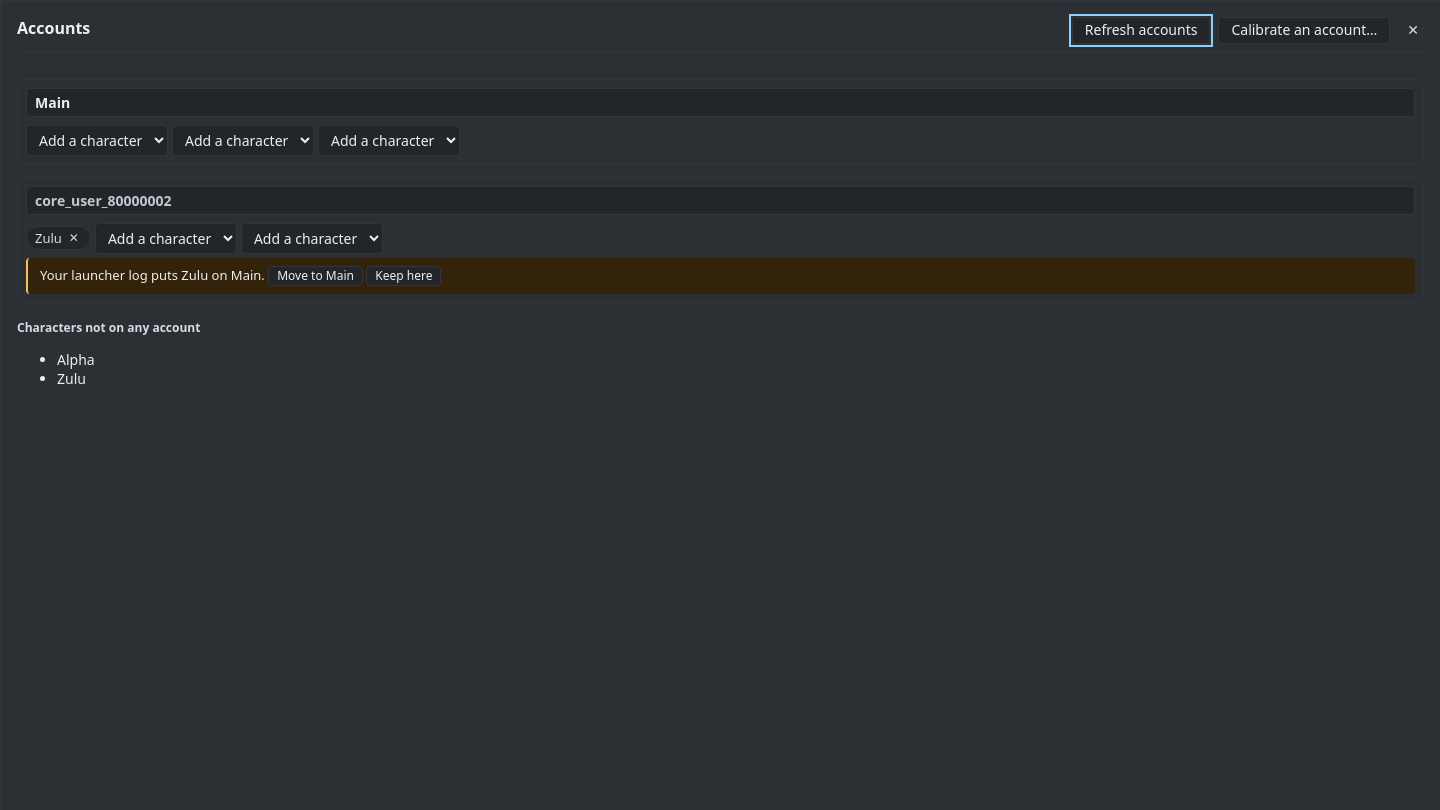
Test: launcher proposals › Keep here drops the warning and writes nothing
Click the button "Keep here" at (404, 276), box [366, 266, 441, 286]
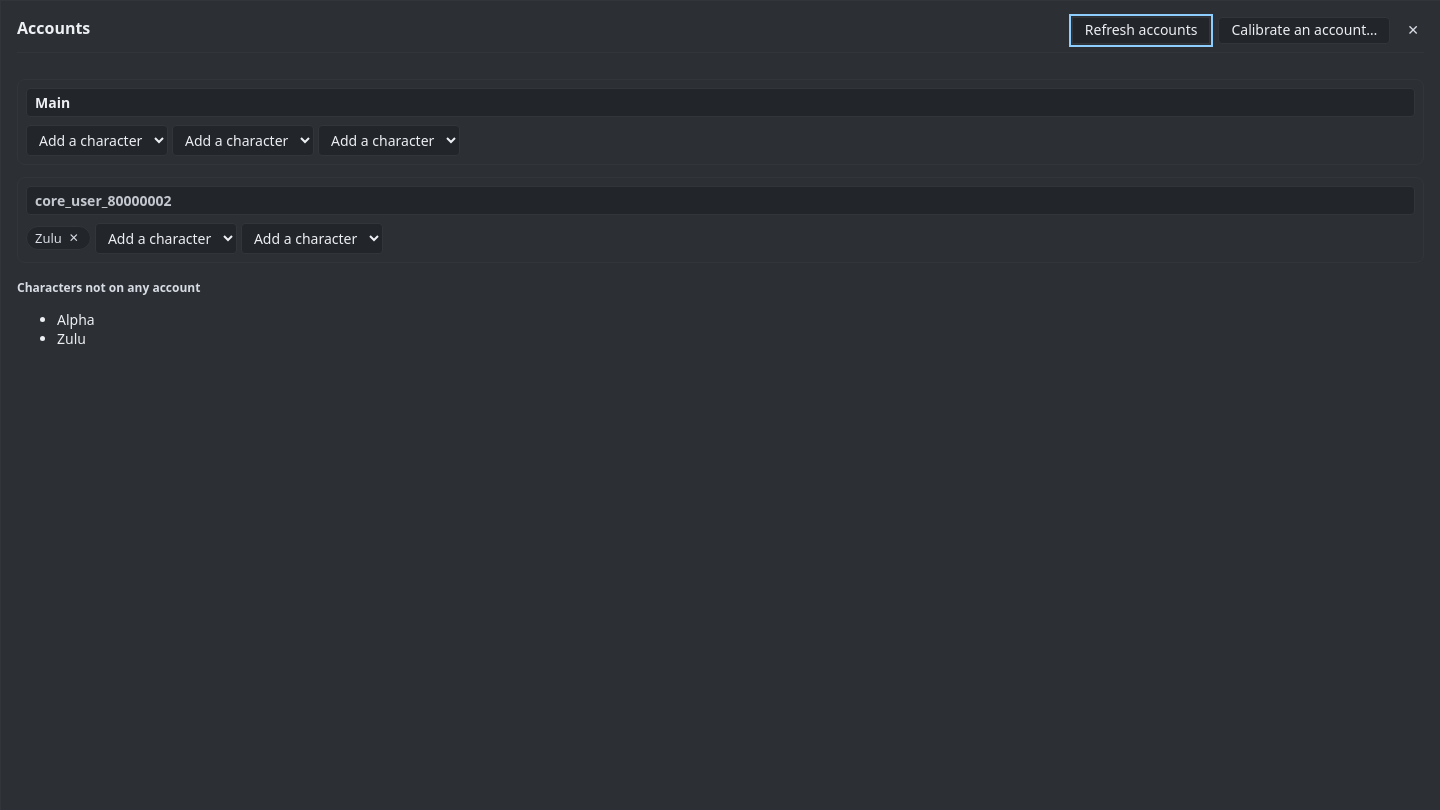
Now the text "launcher log puts Zulu" is gone
